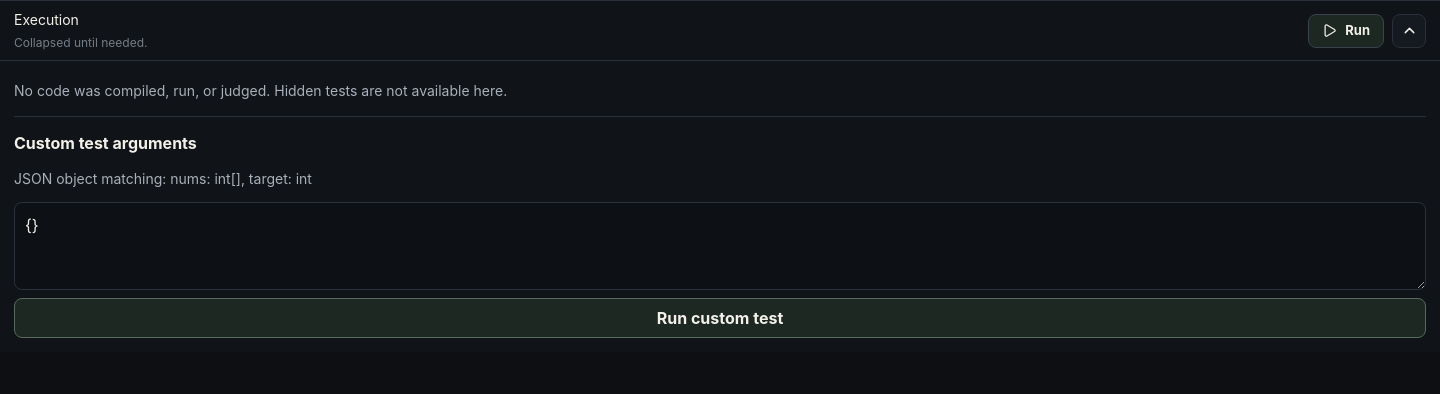
Test case: curated interview journey › does not send invalid custom JSON and hides unsupported controls
Replace the text in the text box labelled "Custom test arguments" with "[]" at (720, 246), box top-left (14, 202), bottom-right (1426, 290)
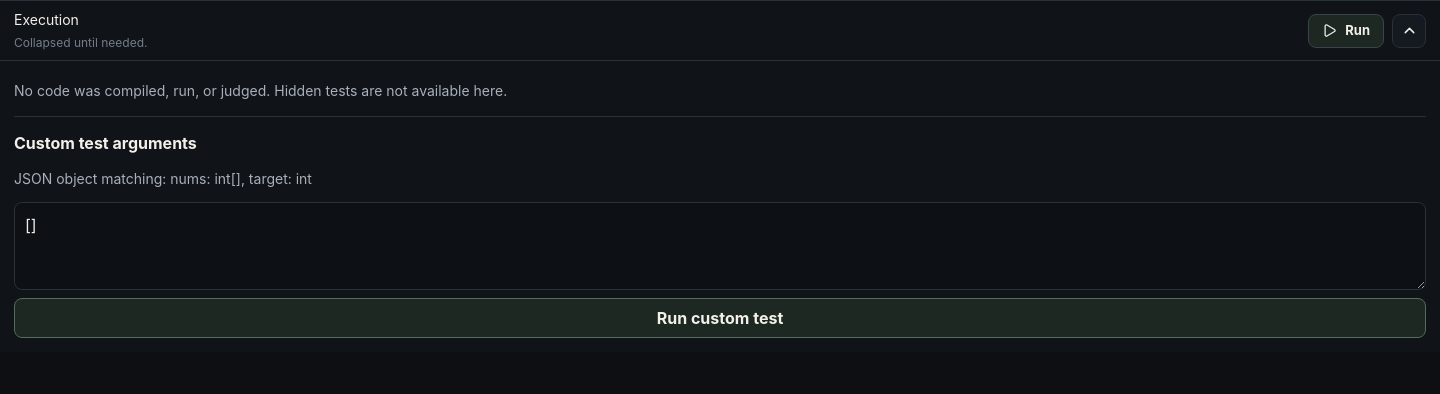
Click the button "Run custom test" at (720, 318), box top-left (14, 298), bottom-right (1426, 338)
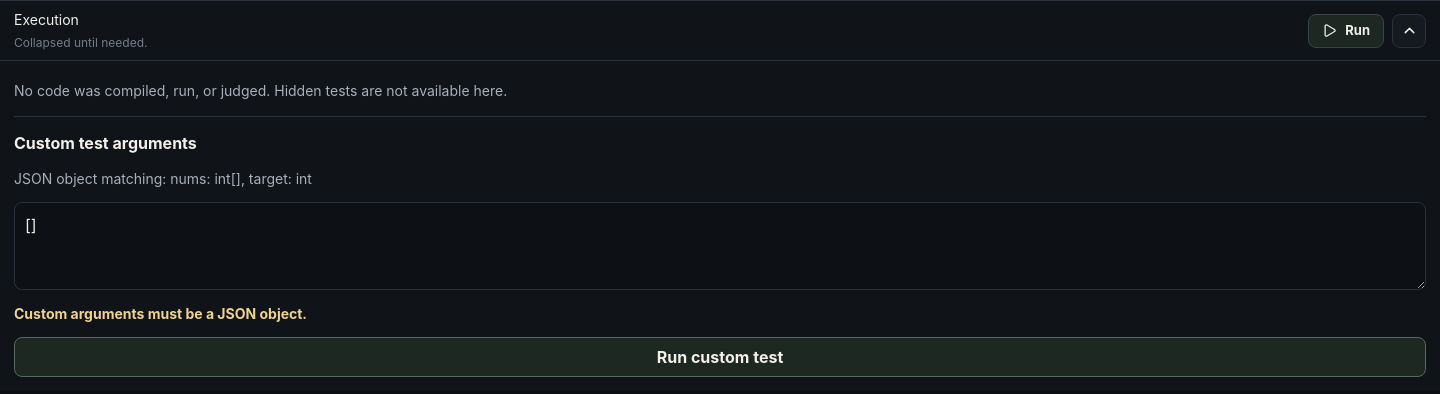
Expected: the message shows "JSON object", top-left (14, 305), bottom-right (307, 322)
